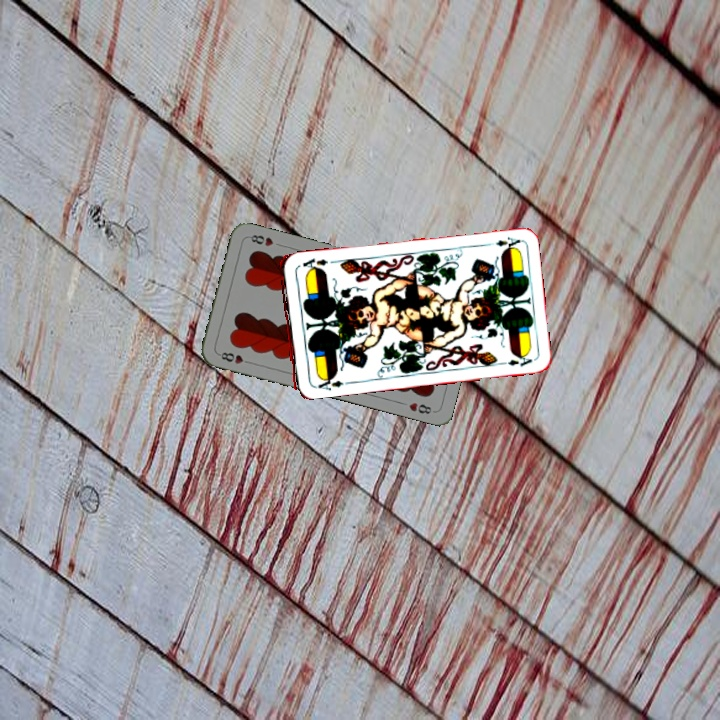EA: (307, 372, 349, 393), (482, 233, 522, 251)
H8: (214, 348, 254, 366)
